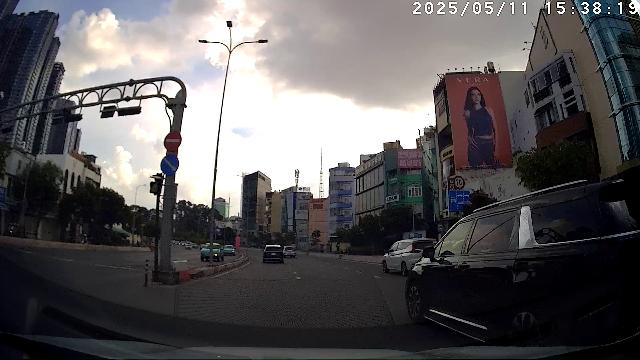102-cam-di-nguoc-chieu: (164, 132, 182, 151)
127-toc-do-toi-da-70: (453, 175, 465, 189)
302a-huong-phai-di-vong-chuong-ngai-vat-1: (160, 154, 180, 175)
